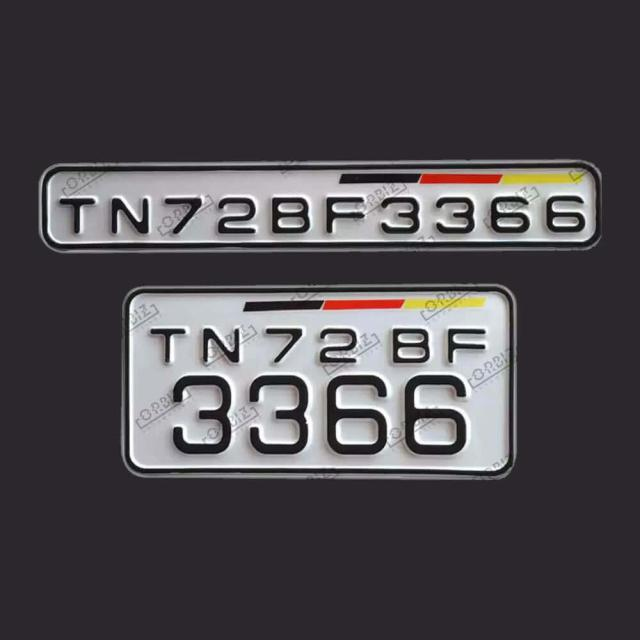plate: (121, 287, 516, 473), (46, 158, 604, 255)
